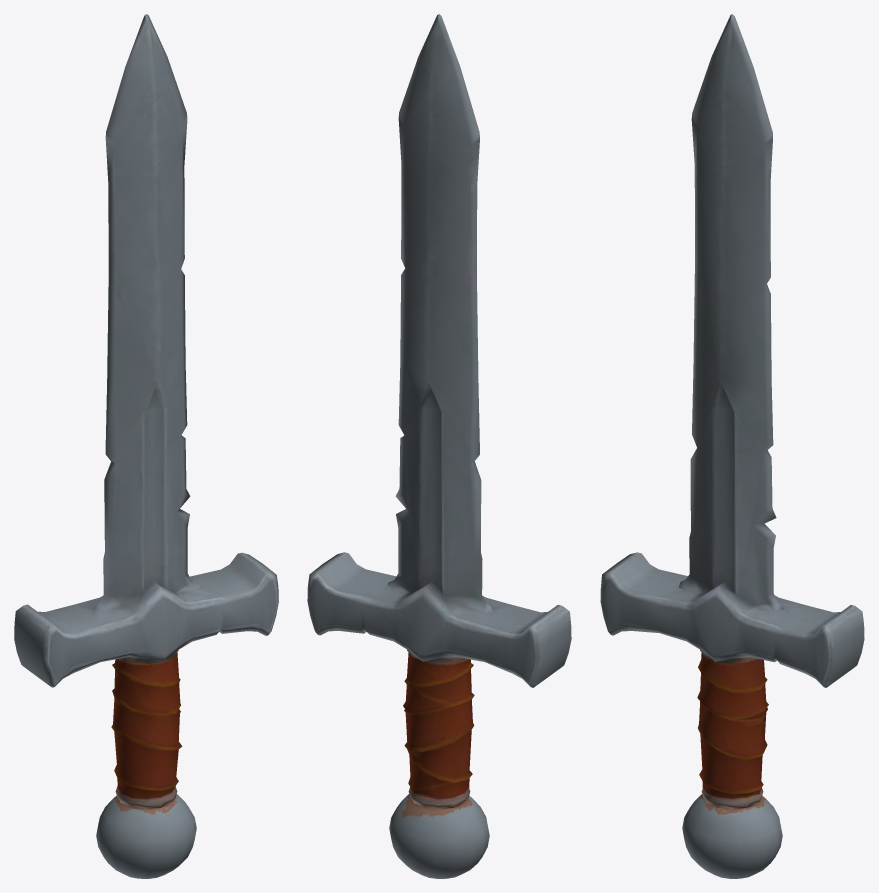
Rendered from sword_field_2h_steel.glb.
The picture shows the model from 3 angles, left to right: view 1: azimuth 30°, elevation 25°; view 2: azimuth 150°, elevation 25°; view 3: azimuth 330°, elevation 25°; orthographic projection.
Visible parts, largest first — view 1: tripo_node_8cc09aab-574a-4779-8de1-239849df6a36; view 2: tripo_node_8cc09aab-574a-4779-8de1-239849df6a36; view 3: tripo_node_8cc09aab-574a-4779-8de1-239849df6a36.
Boxes of the visible parts, x1,y1,x2,y2 form: tripo_node_8cc09aab-574a-4779-8de1-239849df6a36: [14, 14, 278, 878]; tripo_node_8cc09aab-574a-4779-8de1-239849df6a36: [307, 14, 571, 878]; tripo_node_8cc09aab-574a-4779-8de1-239849df6a36: [600, 14, 864, 878].
Bounding box in the file's own units: 0.5758 × 2 × 0.2002.
Materials: 1 (1 with a texture image).
